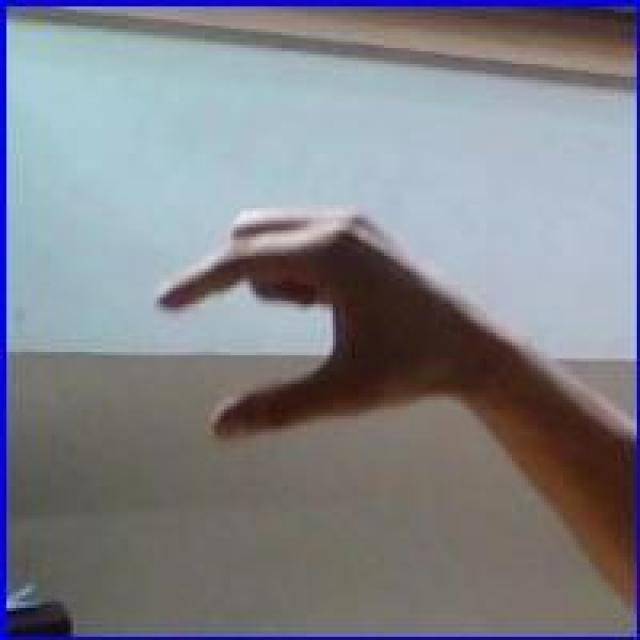Q: (154, 198, 480, 448)
